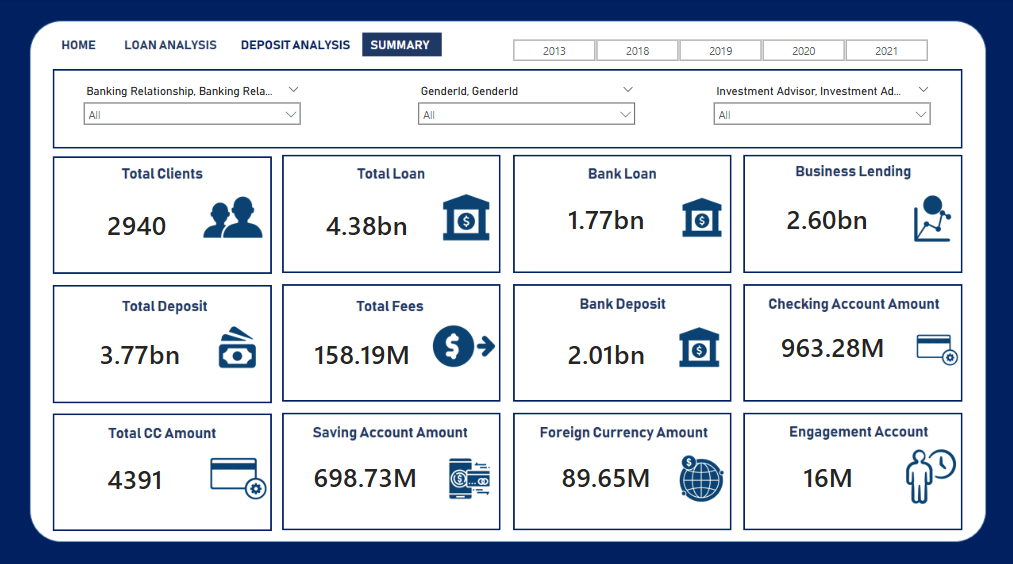

This screenshot's page, from the dashboard's own definition file:
{"tool":"powerbi","page":{"name":"Summary","canvas":[1280,720],"ordinal":3},"visuals":[{"type":"card","fields":{"Values":["banking_case customer.Engagement Length"]},"box":[946.3,546.4,198.2,114.9],"z":0},{"type":"card","fields":{"Values":["Sum(banking_case customer.Foreign Currency Account)"]},"box":[667.2,546.4,198.2,114.9],"z":1000},{"type":"card","fields":{"Values":["Sum(banking_case customer.Bank Deposits)"]},"box":[667.2,390.5,198.2,114.9],"z":2000},{"type":"card","fields":{"Values":["Sum(banking_case customer.Checking Accounts)"]},"box":[953.4,382.3,198.2,114.9],"z":3000},{"type":"card","fields":{"Values":["Sum(banking_case customer.Bank Loans)"]},"box":[667.2,220.5,198.2,114.9],"z":4000},{"type":"card","fields":{"Values":["Sum(banking_case customer.Business Lending)"]},"box":[953.4,220.5,184.1,114.9],"z":5000},{"type":"card","fields":{"Values":["Sum(banking_case customer.Saving Accounts)"]},"box":[360,546.4,207.6,114.9],"z":6000},{"type":"card","fields":{"Values":["banking_case customer.Total CC Amount"]},"box":[73.7,548,198.4,115.3],"z":7000},{"type":"card","fields":{"Values":["banking_case customer.Total Deposit"]},"box":[78.6,390.5,198.2,114.9],"z":8000},{"type":"card","fields":{"Values":["banking_case customer.Total Fees"]},"box":[365.9,390.5,184.1,114.9],"z":9000},{"type":"card","fields":{"Values":["banking_case customer.Total Clients"]},"box":[75,228.7,198.2,114.9],"z":10000},{"type":"card","fields":{"Values":["banking_case customer.Total Loan"]},"box":[365.9,228.7,195.8,114.9],"z":11000},{"type":"slicer","fields":{"Values":["banking_case customer.Banking Relationship","banking_case customer.Banking Relationship"]},"box":[98.5,104.3,292.9,75.7],"z":12000},{"type":"slicer","fields":{"Values":["banking_case customer.GenderId","banking_case customer.GenderId"]},"box":[518.9,104.3,292.9,75.7],"z":13000},{"type":"slicer","fields":{"Values":["banking_case customer.IAId","banking_case customer.IAId"]},"box":[891.3,104.3,292.9,75.7],"z":14000},{"type":"actionButton","box":[72.8,44.2,58.5,31],"z":15000},{"type":"actionButton","box":[306.9,44.7,119.4,31],"z":16000},{"type":"actionButton","box":[297.9,44.6,147.8,30.5],"z":17000},{"type":"actionButton","box":[157.1,44.6,125.5,30.5],"z":18000},{"type":"slicer","fields":{"Values":["banking_case customer.Year of Joining"]},"box":[623.8,46,571.4,38.1],"z":19000}]}

Visuals, with their boxes in screenshot pixels (x1, y1, x2, y2), scaled from the page's 1280x720 canvas onto the 1013x564 screenshot:
card - banking_case customer.Engagement Length: region(749, 428, 906, 518)
card - Sum(banking_case customer.Foreign Currency Account): region(528, 428, 685, 518)
card - Sum(banking_case customer.Bank Deposits): region(528, 306, 685, 396)
card - Sum(banking_case customer.Checking Accounts): region(755, 299, 911, 389)
card - Sum(banking_case customer.Bank Loans): region(528, 173, 685, 263)
card - Sum(banking_case customer.Business Lending): region(755, 173, 900, 263)
card - Sum(banking_case customer.Saving Accounts): region(285, 428, 449, 518)
card - banking_case customer.Total CC Amount: region(58, 429, 215, 520)
card - banking_case customer.Total Deposit: region(62, 306, 219, 396)
card - banking_case customer.Total Fees: region(290, 306, 435, 396)
card - banking_case customer.Total Clients: region(59, 179, 216, 269)
card - banking_case customer.Total Loan: region(290, 179, 445, 269)
slicer - banking_case customer.Banking Relationship x banking_case customer.Banking Relationship: region(78, 82, 310, 141)
slicer - banking_case customer.GenderId x banking_case customer.GenderId: region(411, 82, 642, 141)
slicer - banking_case customer.IAId x banking_case customer.IAId: region(705, 82, 937, 141)
actionButton: region(58, 35, 104, 59)
actionButton: region(243, 35, 337, 59)
actionButton: region(236, 35, 353, 59)
actionButton: region(124, 35, 224, 59)
slicer - banking_case customer.Year of Joining: region(494, 36, 946, 66)
